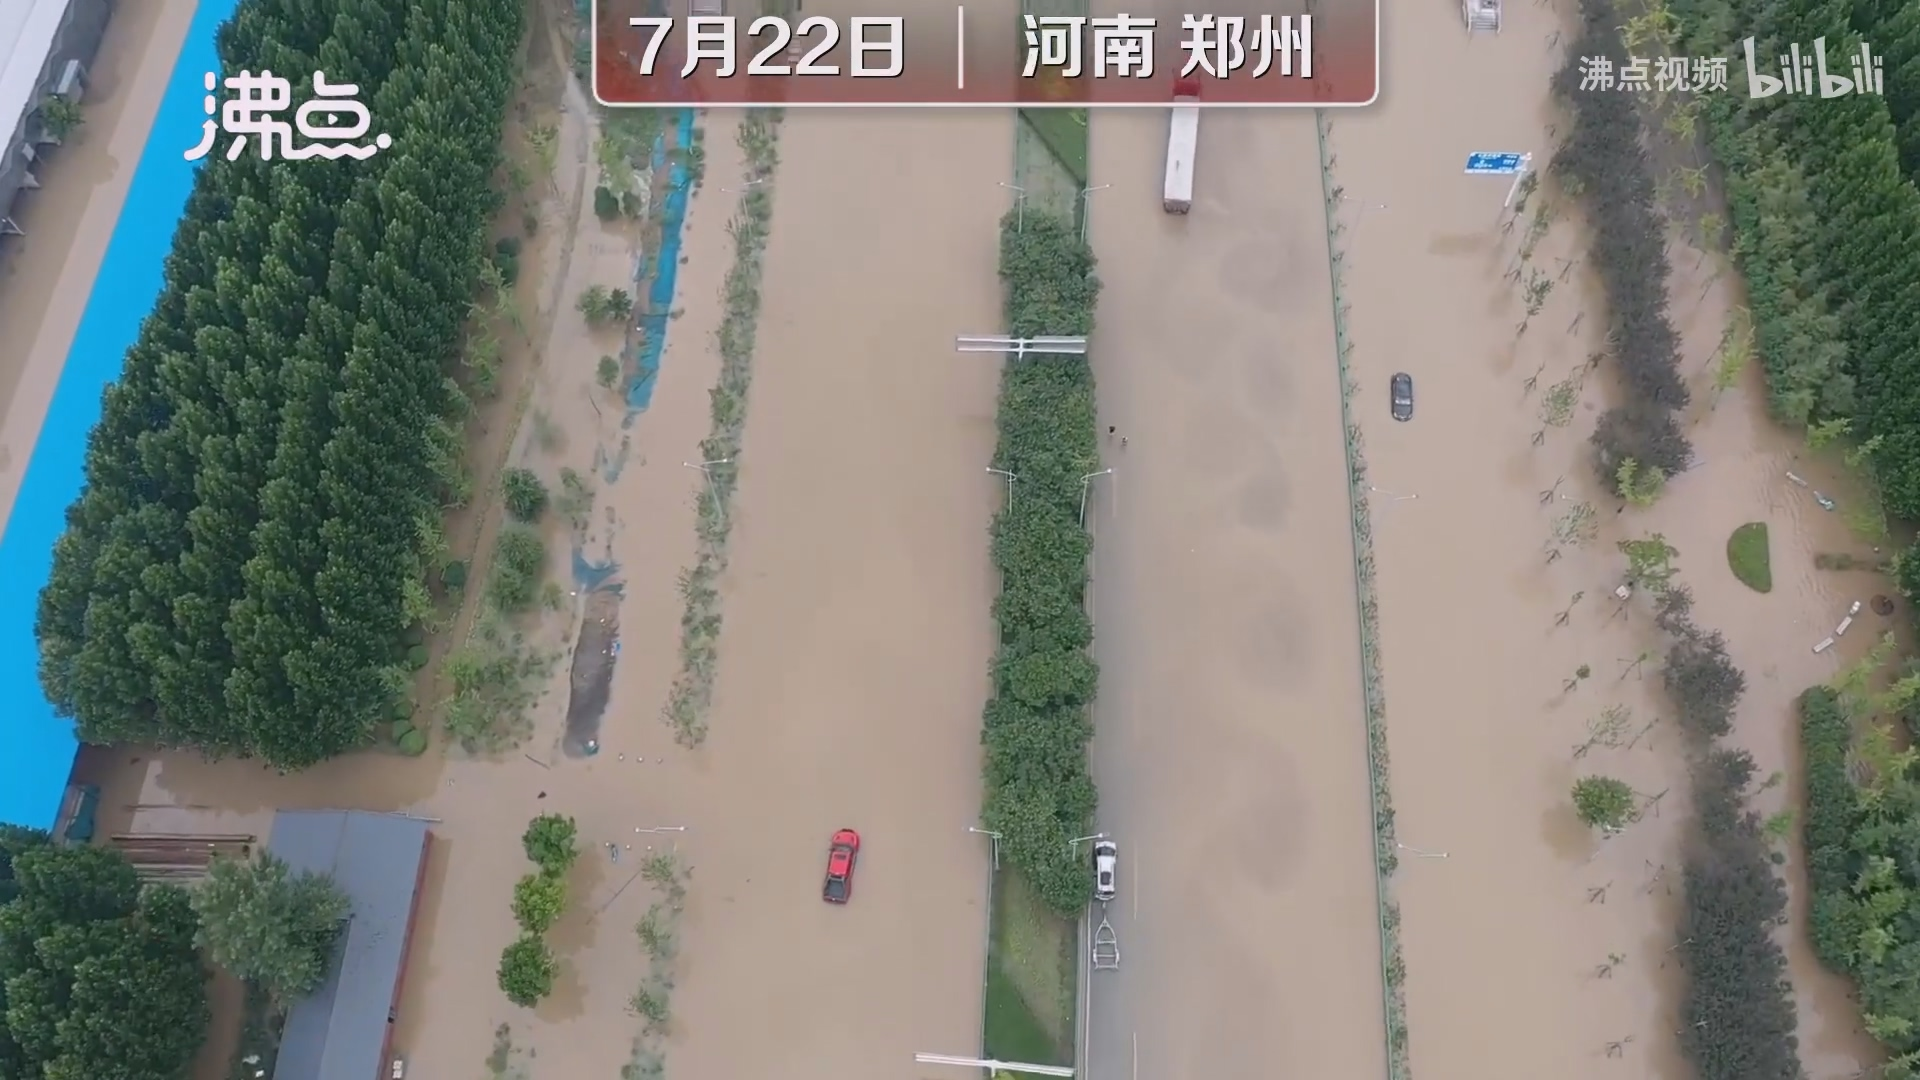puddle: (446, 175, 1033, 1080), (1076, 191, 1664, 1080)
